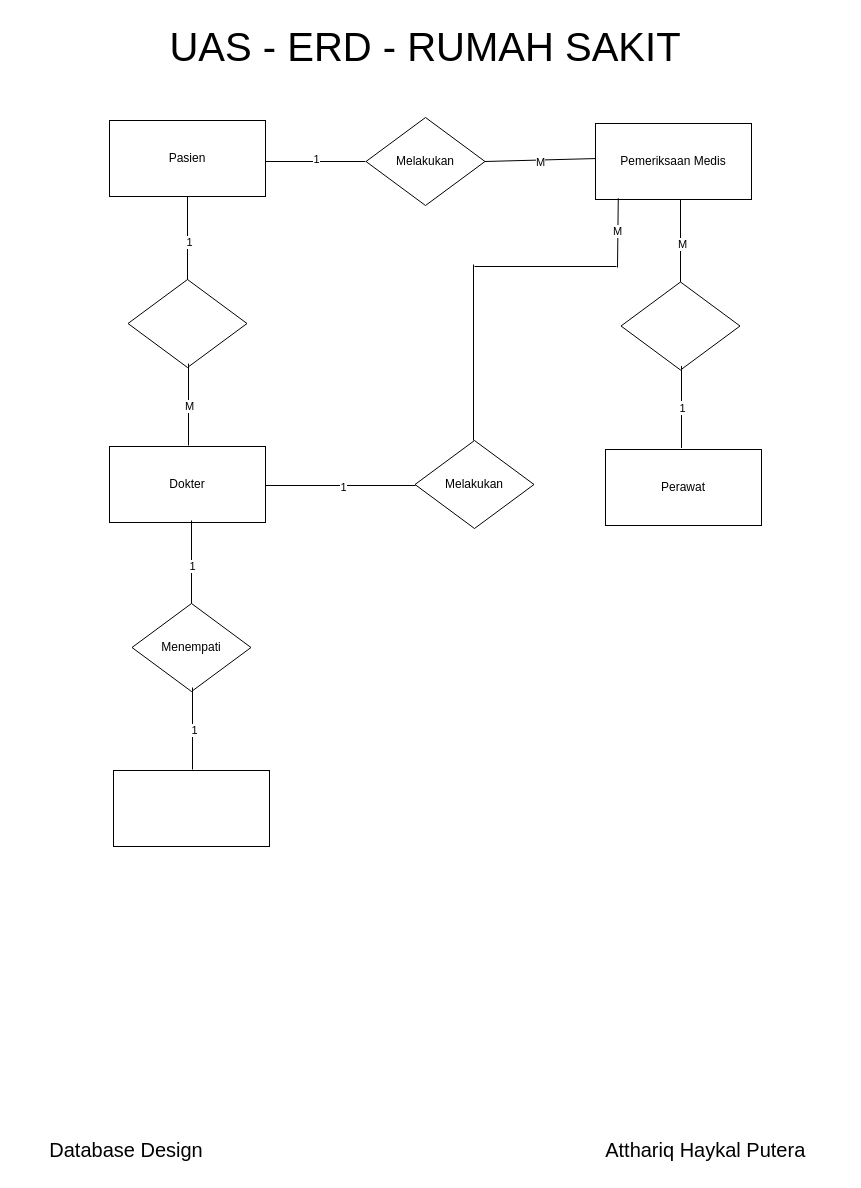
Some shapes in this 861 by 1188 pixel diagram are drawn without their labels. Here are the shapes that lost their labels. From the top down, the centre of each, then its label:
At (x=187, y=323): "Diperiksa".
At (x=680, y=325): "Membantu".
At (x=191, y=808): "Ruangan".
